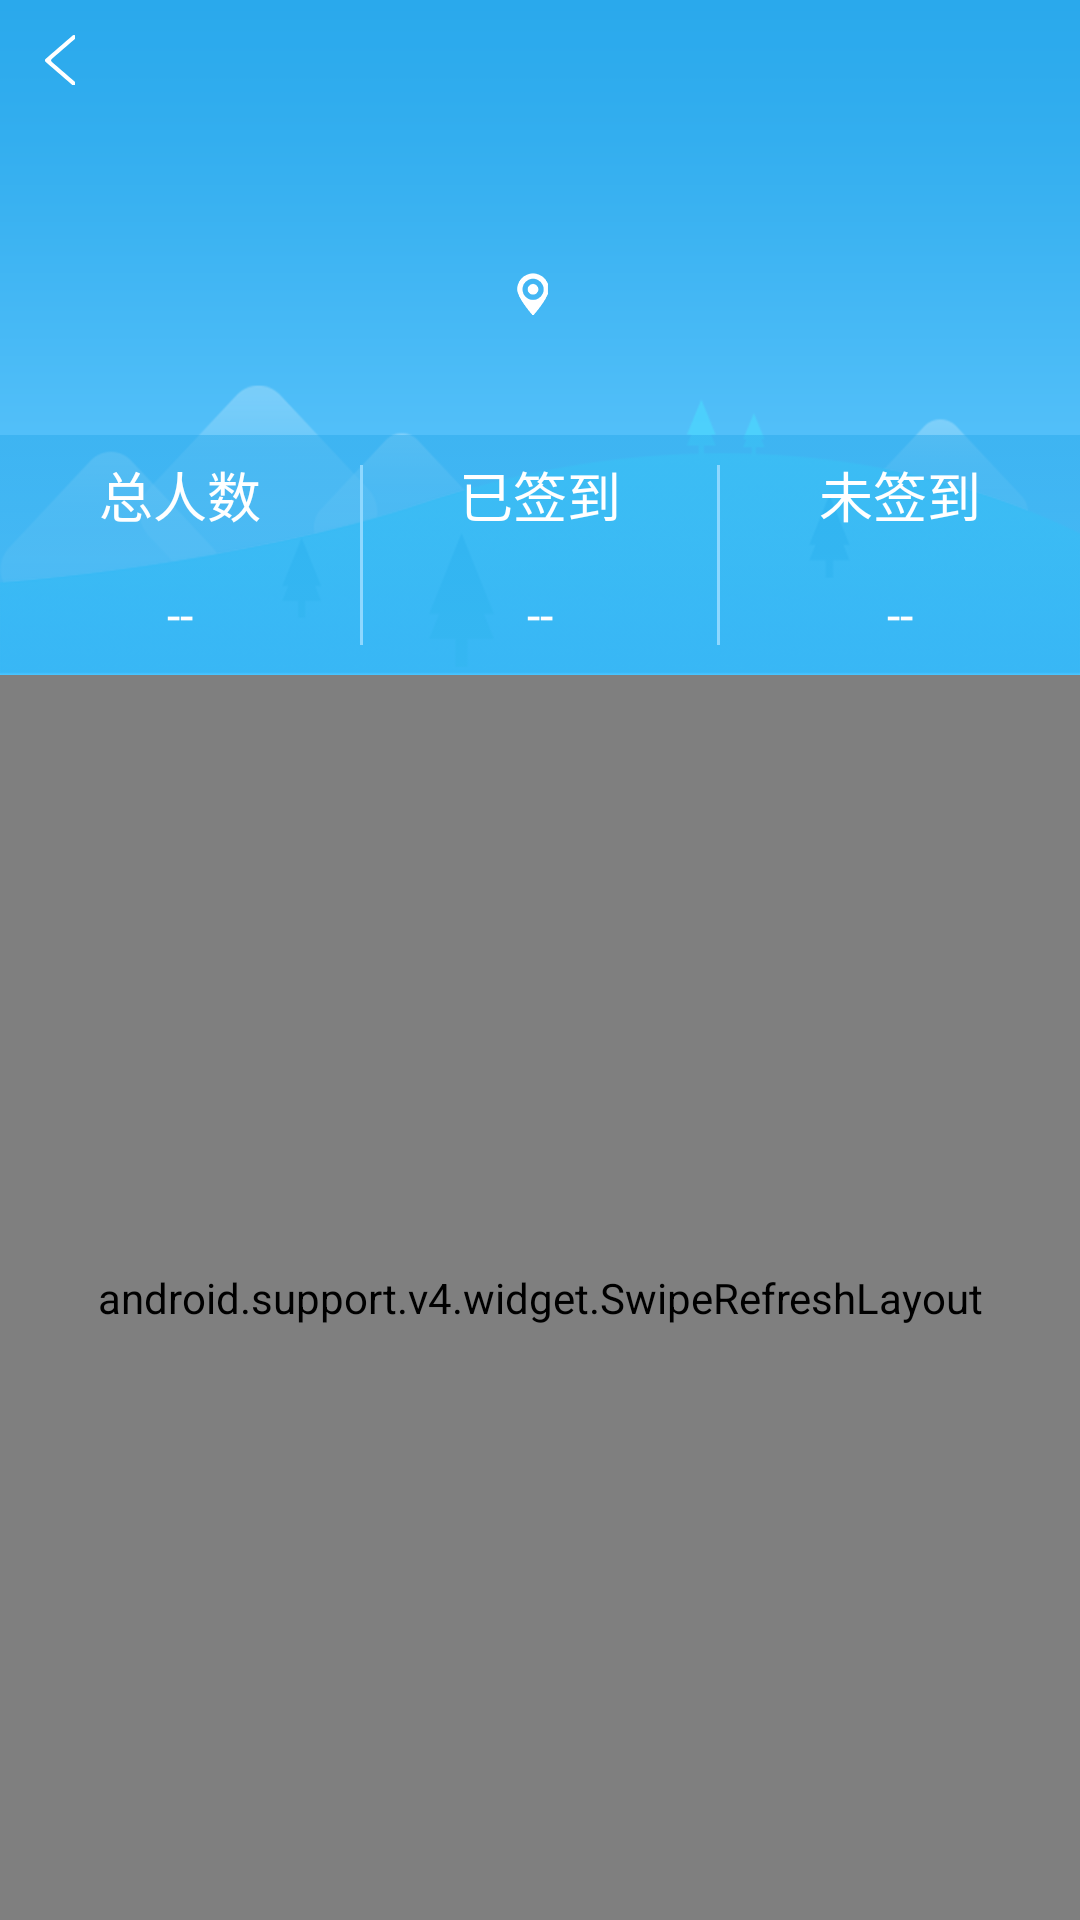

Where icons sit on this 1080w x 1920h app screen, as {"left": x1, "top": y1, "right": x2, "bottom": y2}:
detail back: {"left": 45, "top": 35, "right": 75, "bottom": 85}
